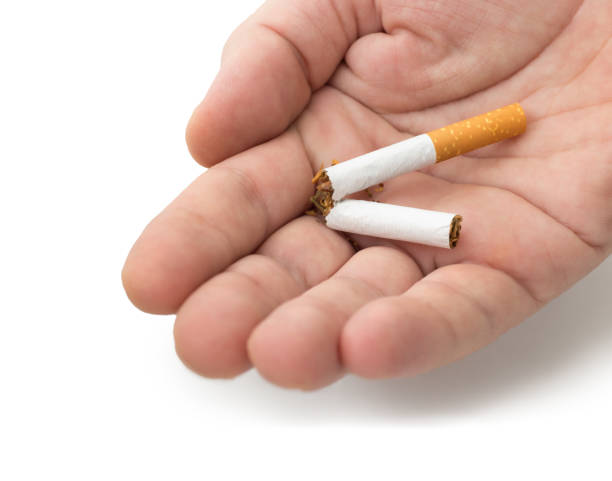cigarette: (311, 103, 530, 203), (318, 198, 464, 251)
